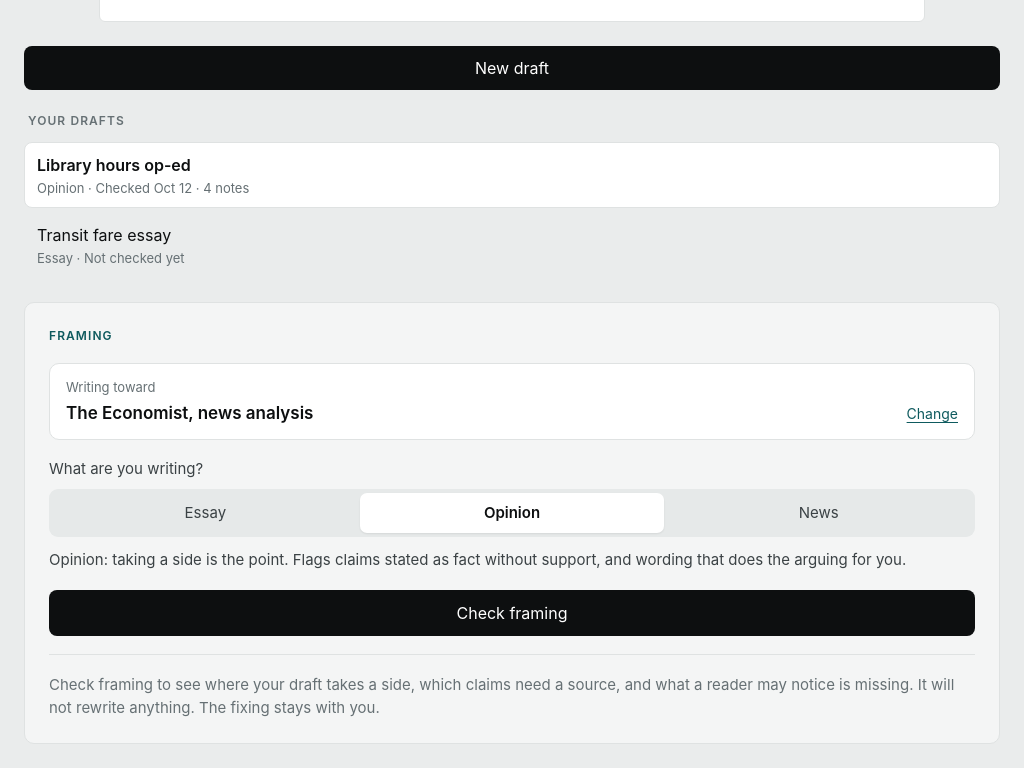
Test: with drafts › Check framing › an error stays in the panel and the draft stays editable
(page scrolled)
Click the button "Check framing": (512, 613) x1=49 y1=590 x2=975 y2=636
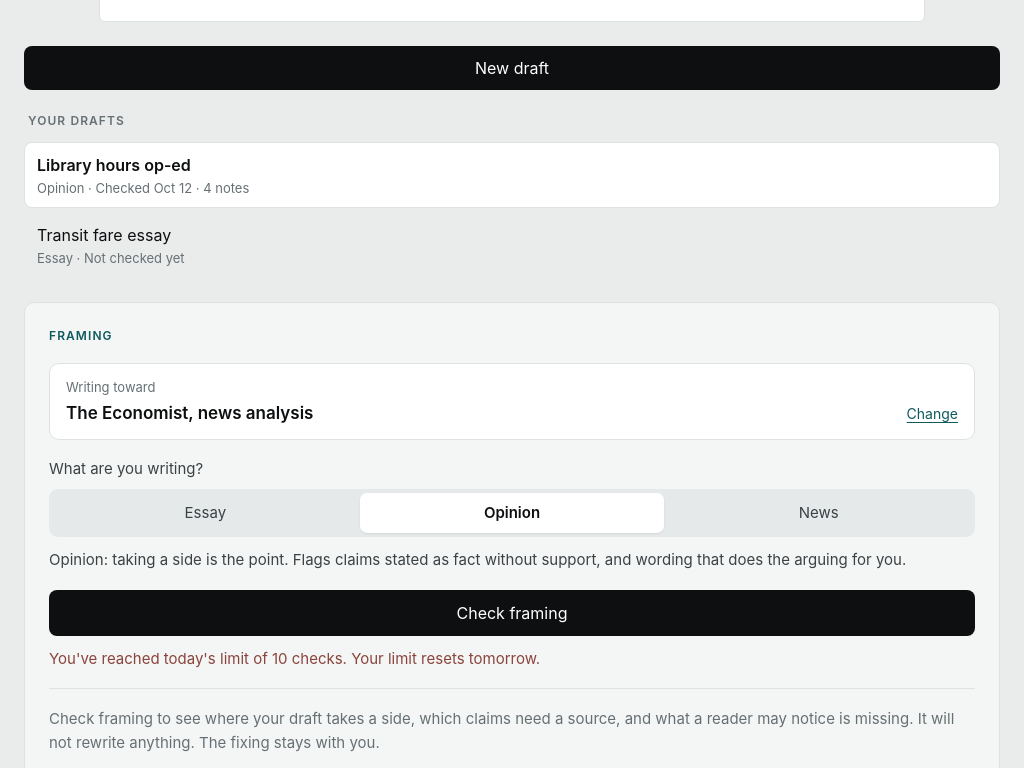
expect the message shows "today's limit of 10 checks": met, box x1=49 y1=649 x2=540 y2=668
